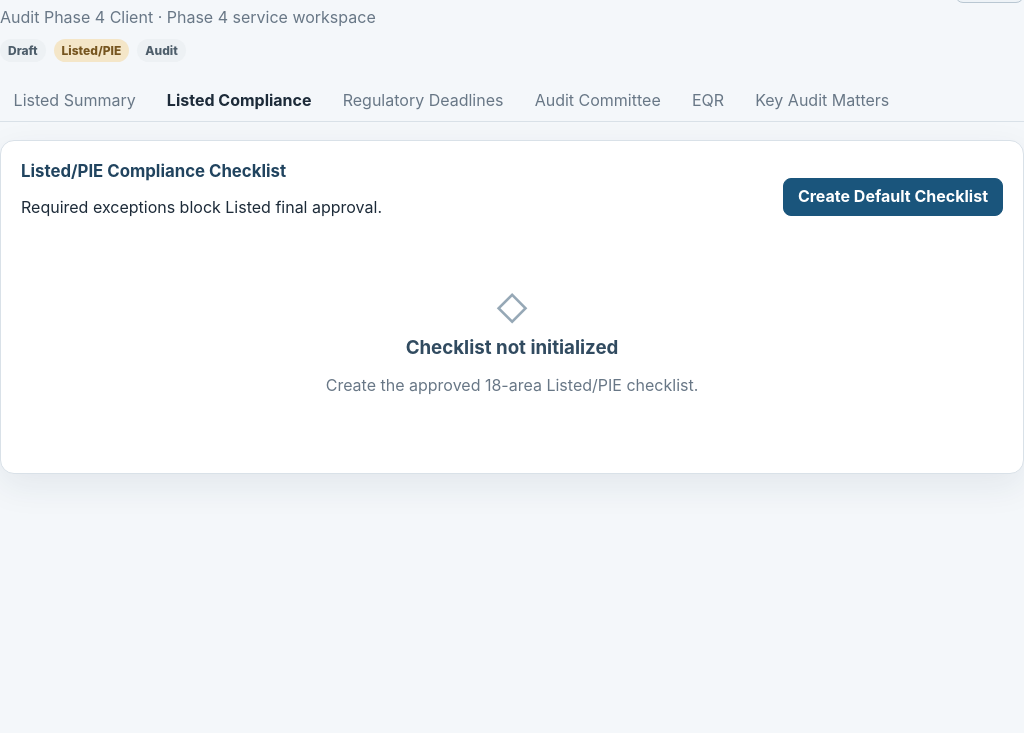
Phase 4 React interactions › creates the approved 18-item Listed compliance checklist
Click the button "Create Default Checklist" at [893, 197], box 783,178 -> 1003,216
(page scrolled)
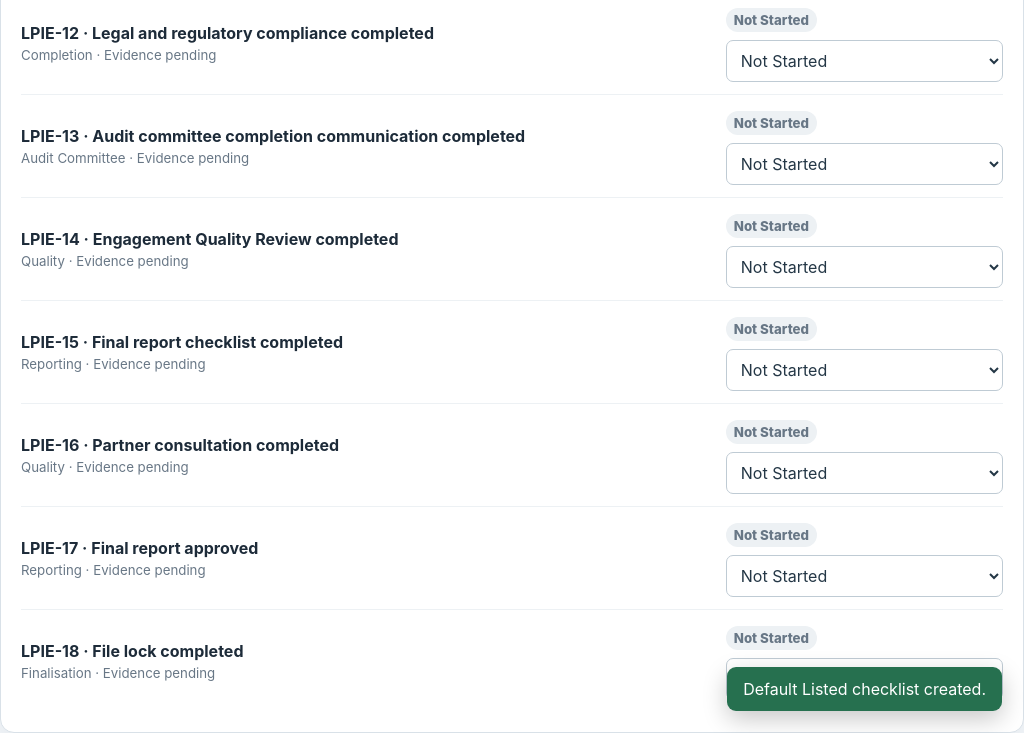
Expected: the text "LPIE-18 · File lock completed" is shown, 21,641 -> 244,661
